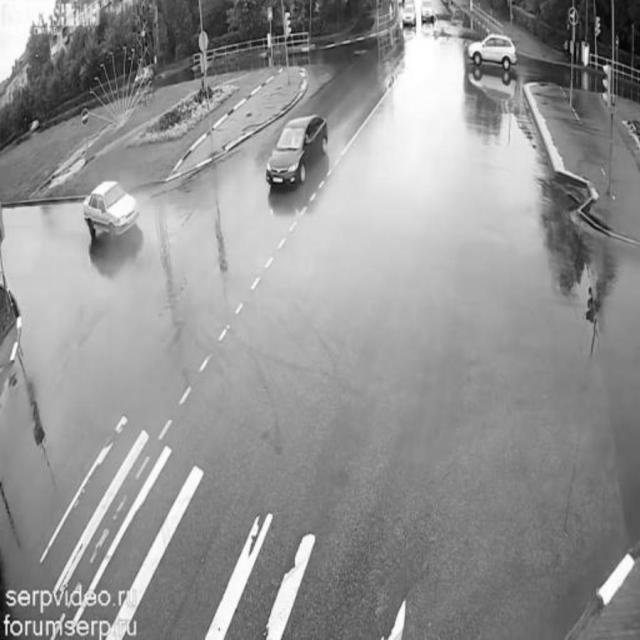vehicle: (262, 113, 330, 184), (81, 179, 137, 250), (466, 28, 517, 70), (399, 2, 419, 30), (417, 1, 434, 23)
